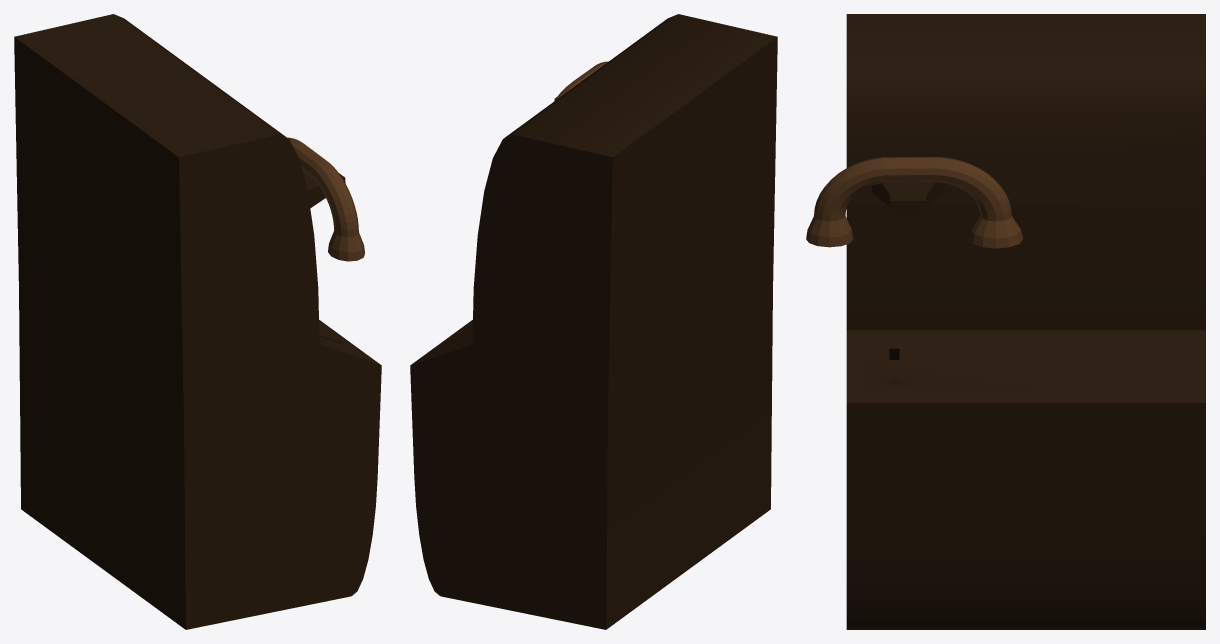
File: telepon.fbx
The picture shows the model from 3 angles, left to right: view 1: azimuth 30°, elevation 25°; view 2: azimuth 150°, elevation 25°; view 3: azimuth 270°, elevation 25°; orthographic projection. The views are drawn at different scales.
Parts seen in each view (by area): view 1: Cube.016; view 2: Cube.016; view 3: Cube.016.
Part boxes in pixels (box(x1,y1,x2,y2)): Cube.016: box(14, 14, 381, 629); Cube.016: box(410, 14, 777, 629); Cube.016: box(806, 14, 1205, 629).
Bounding box in the file's own units: 142 × 322 × 223.
